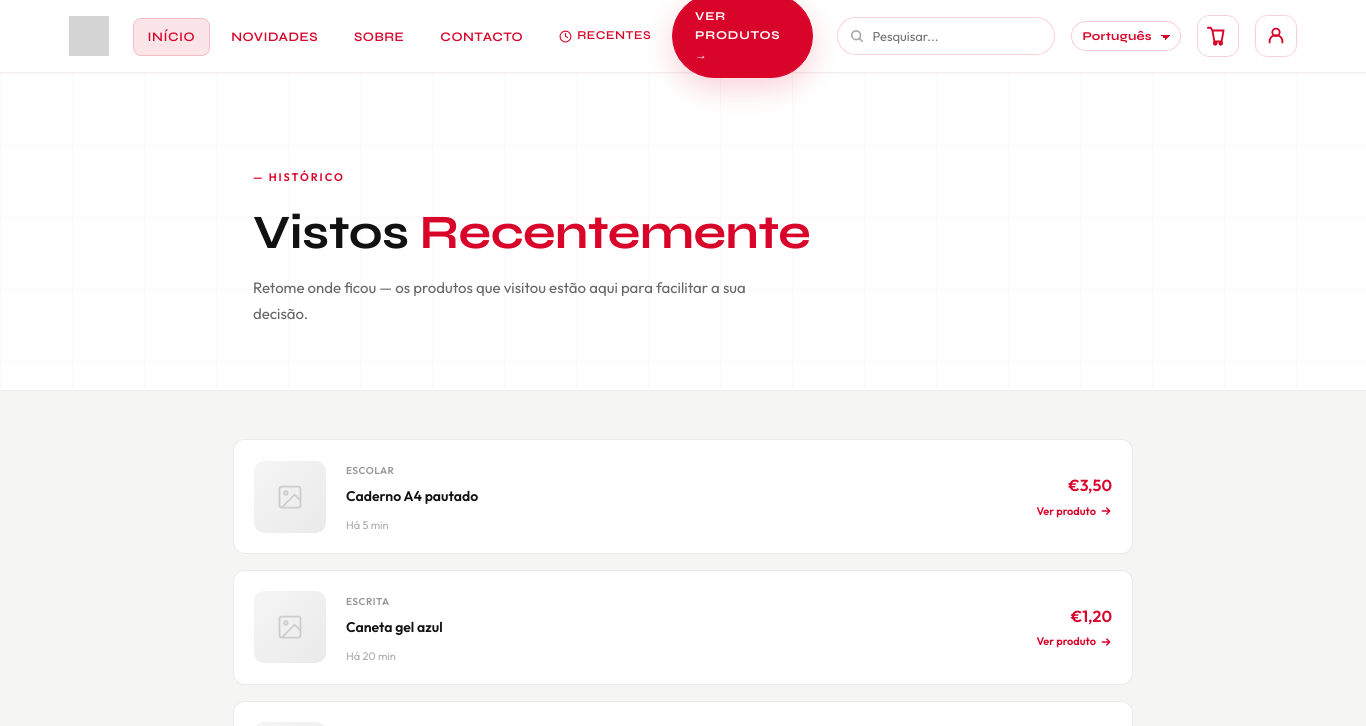
Test: RecentlyViewedPage language switching › switches the page copy to English when the user changes language
Check: the heading "Vistos Recentemente" is shown, box top-left (253, 204), bottom-right (810, 261)
Select "English" in the dropdown named "language" at (1126,36), box top-left (1071, 21), bottom-right (1181, 51)
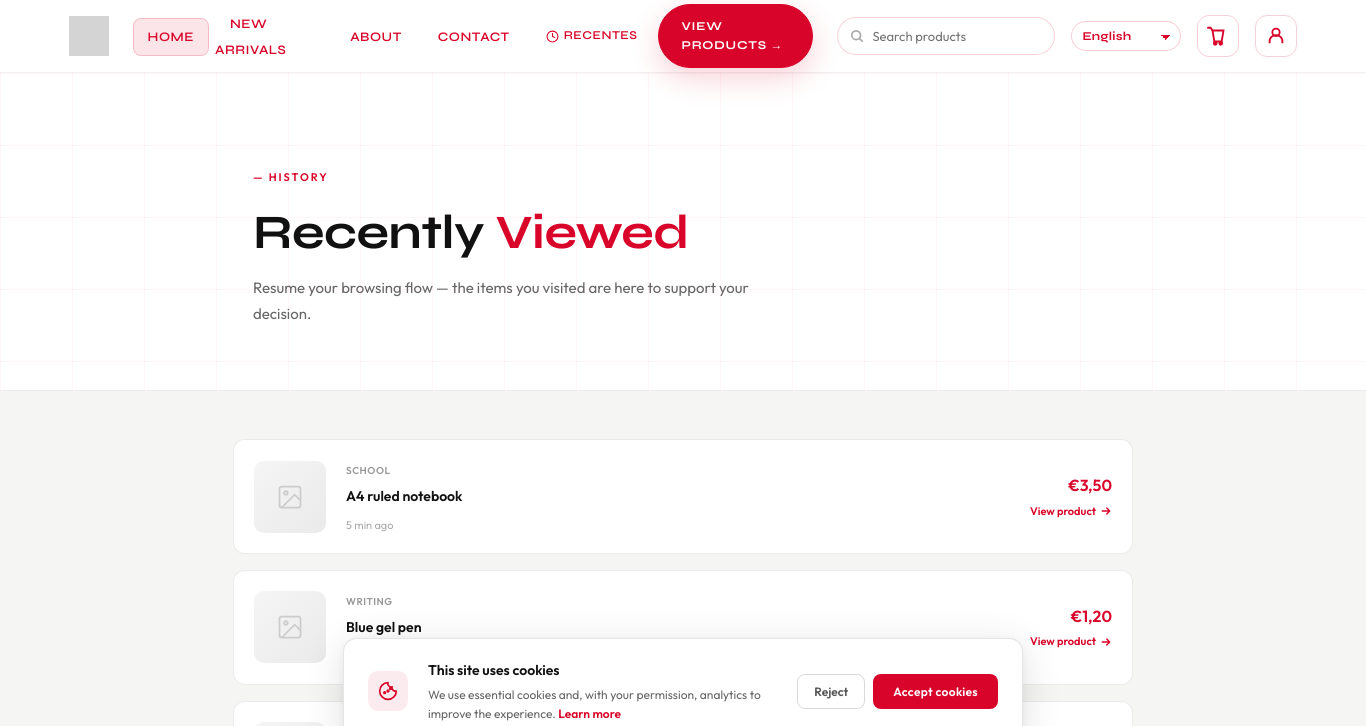
Check: the heading "Recently Viewed" is shown, box top-left (253, 204), bottom-right (689, 261)
